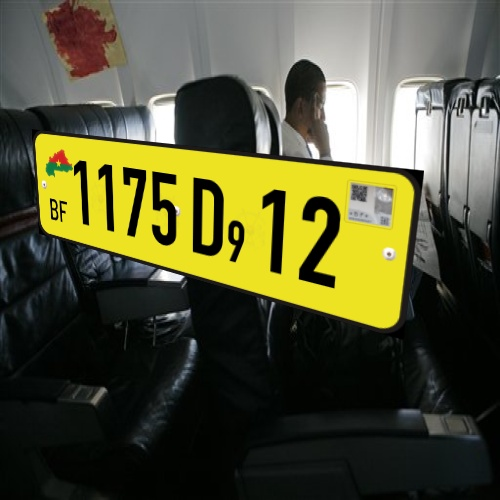plate: (25, 122, 428, 338)
